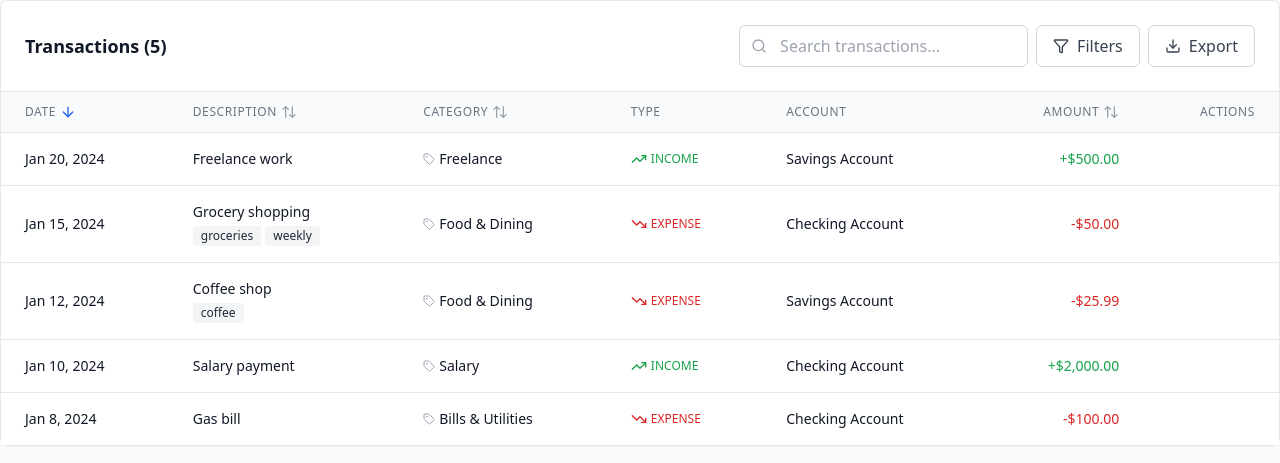
TransactionList › Search Functionality › filters transactions by search query
Type "grocery" into the field with placeholder "Search transactions..." at point(884, 46), box 739,25 -> 1028,67
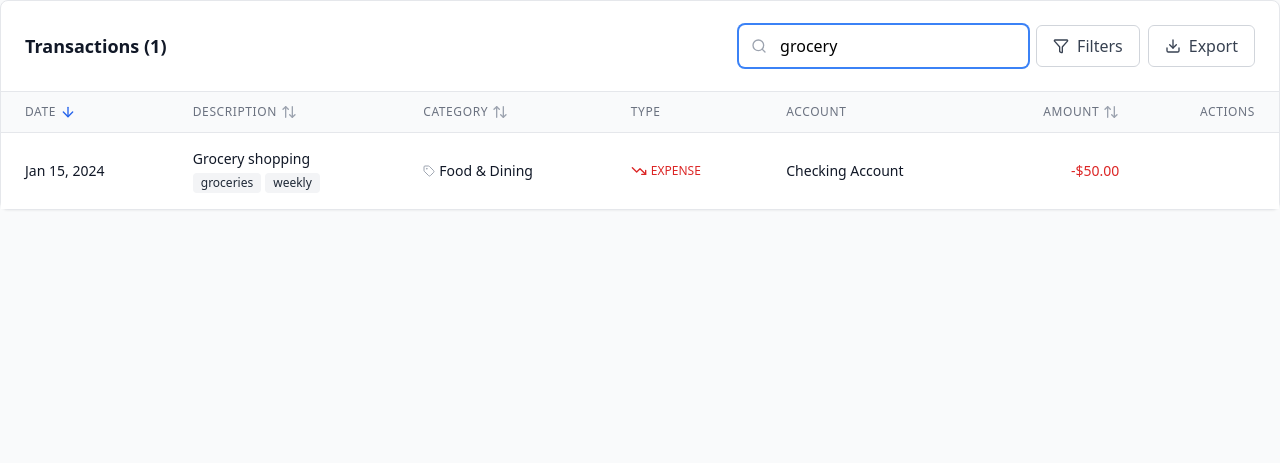
Expected: the text "Grocery shopping" is shown, 193,149 -> 310,168
Now the text "Salary payment" is gone
